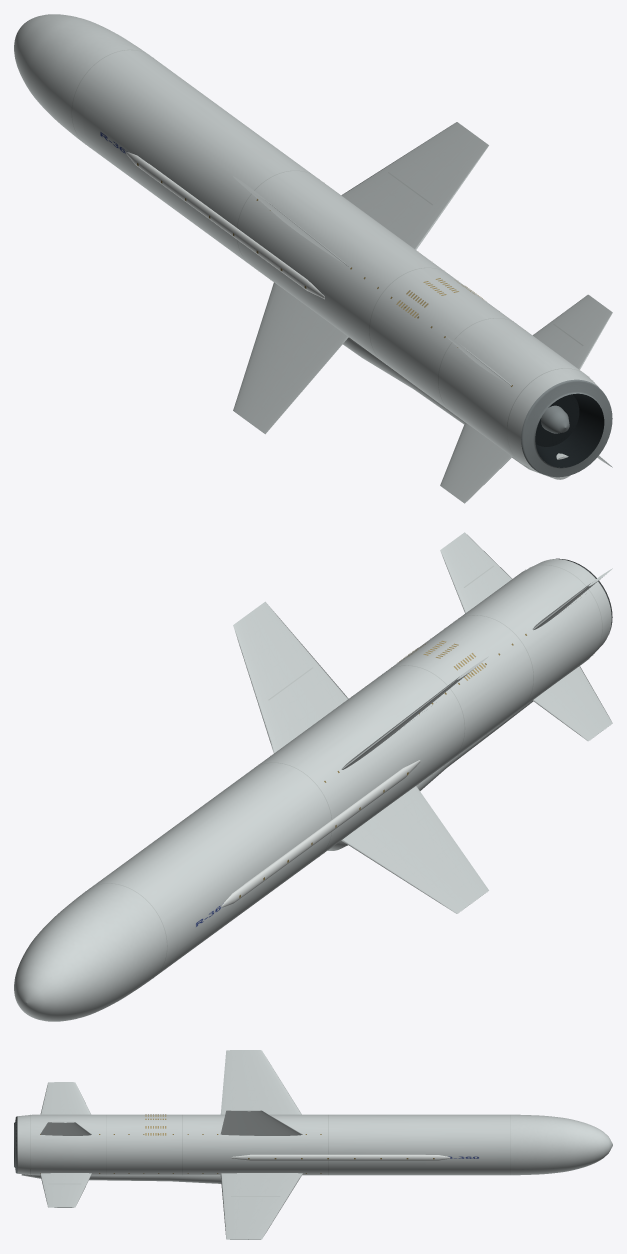
File: neptun.obj
The picture shows the model from 3 angles, top to bottom: view 1: azimuth 30°, elevation 25°; view 2: azimuth 150°, elevation 25°; view 3: azimuth 270°, elevation 25°; orthographic projection. The views are drawn at different scales.
Visible parts, largest first — view 1: fuselage, main_wing, tail_fin, nozzle_rim, nozzle_recess, side_fairing, blue_marking, exhaust_shadow, belly_fairing, panel_joint; view 2: fuselage, main_wing, tail_fin, side_fairing, blue_marking, panel_joint, belly_fairing; view 3: fuselage, main_wing, tail_fin, side_fairing, blue_marking, belly_fairing, panel_joint.
Part boxes in pixels (x1,y1,x2,y2): fuselage: (14, 14, 605, 475); main_wing: (233, 122, 488, 434); tail_fin: (440, 294, 612, 503); nozzle_rim: (521, 379, 612, 477); nozzle_recess: (535, 393, 604, 467); side_fairing: (126, 152, 324, 299); blue_marking: (83, 106, 150, 182); exhaust_shadow: (535, 394, 579, 446); belly_fairing: (343, 337, 567, 478); panel_joint: (71, 49, 594, 468); fuselage: (14, 559, 611, 1021); main_wing: (233, 601, 488, 913); tail_fin: (440, 532, 612, 741); side_fairing: (221, 760, 420, 907); blue_marking: (177, 875, 243, 951); panel_joint: (85, 564, 602, 973); belly_fairing: (328, 700, 533, 850); fuselage: (17, 1114, 612, 1175); main_wing: (220, 1050, 302, 1239); tail_fin: (40, 1082, 91, 1207); side_fairing: (231, 1154, 450, 1160); blue_marking: (425, 1149, 497, 1165); belly_fairing: (21, 1174, 221, 1183); panel_joint: (30, 1114, 510, 1175).
Bounding box in the file's own units: 1.89 × 1.89 × 7.9.
1 material, 1 textured.
